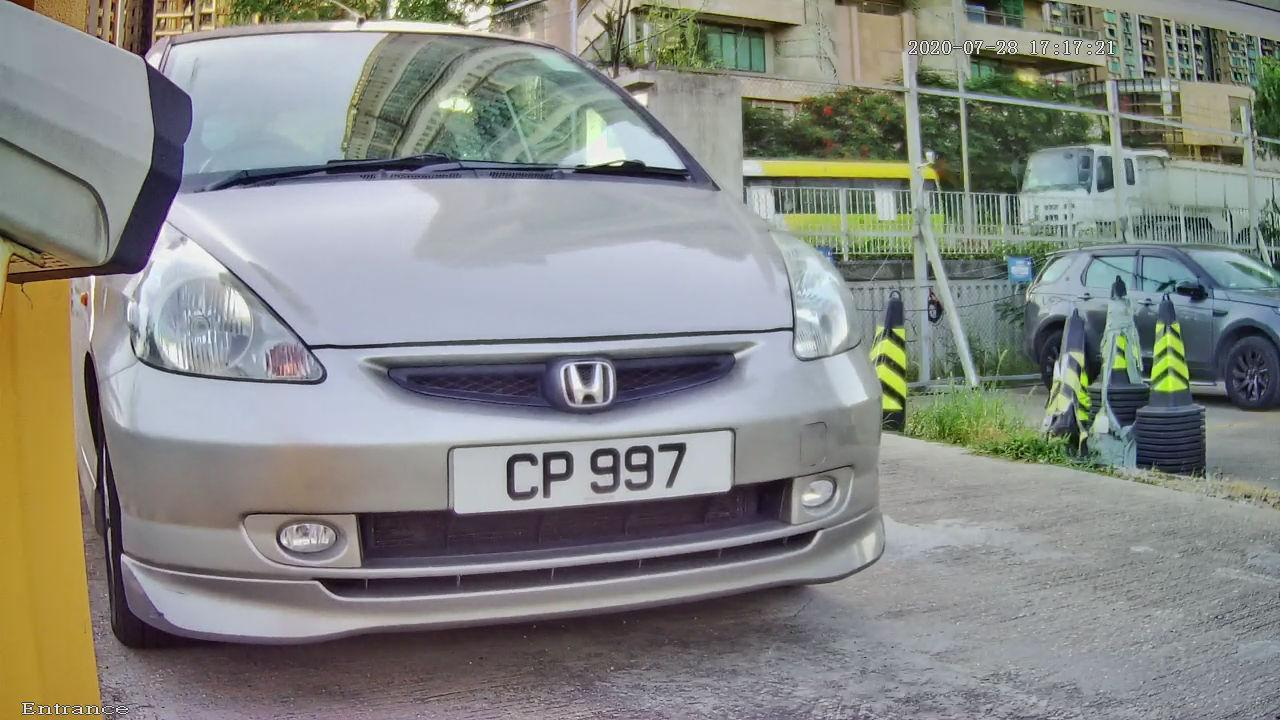privatecar: (40, 23, 989, 669)
